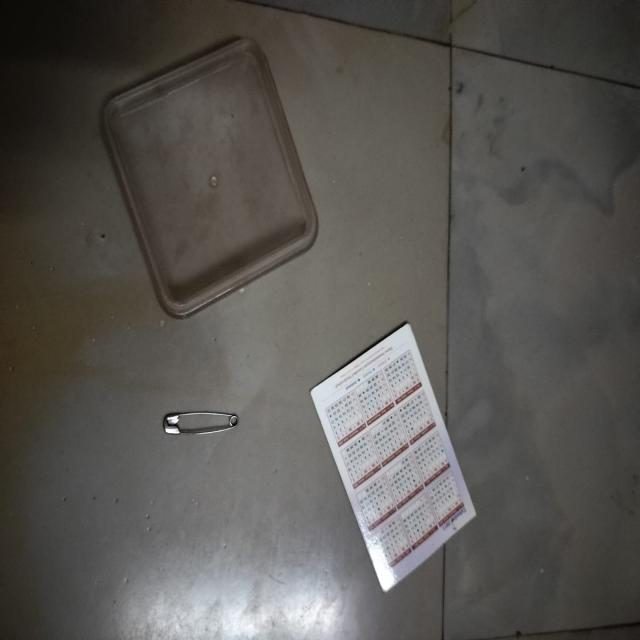metal: (161, 408, 239, 438)
paper: (309, 322, 477, 592)
plastic: (100, 33, 318, 319)
